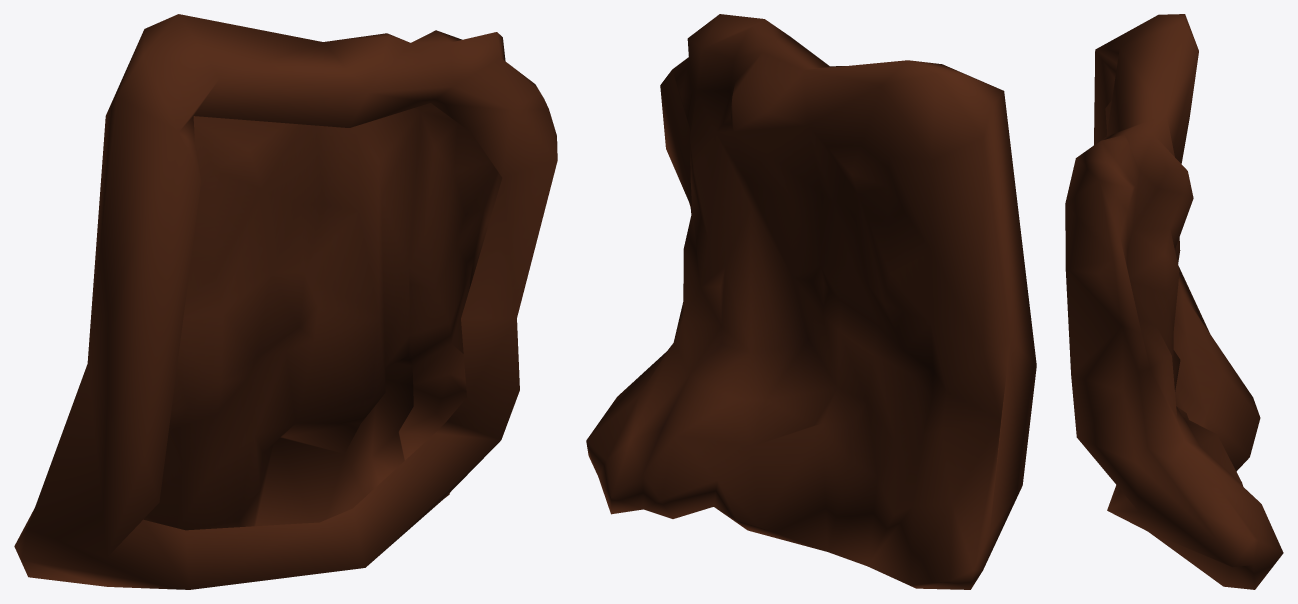
File: env_digsiterock_wall02_lod2.fbx
3 views of the same model, side by side, from view 1: azimuth 30°, elevation 25°; view 2: azimuth 150°, elevation 25°; view 3: azimuth 270°, elevation 25° (orthographic). The views are drawn at different scales.
Visible parts, largest first — view 1: env_digsiterock_wall02.005; view 2: env_digsiterock_wall02.005; view 3: env_digsiterock_wall02.005.
Part boxes in pixels (<box>): env_digsiterock_wall02.005: <box>14,14,557,589</box>; env_digsiterock_wall02.005: <box>586,14,1036,589</box>; env_digsiterock_wall02.005: <box>1065,14,1283,589</box>.
Bounding box in the file's own units: 478 × 574 × 245.
